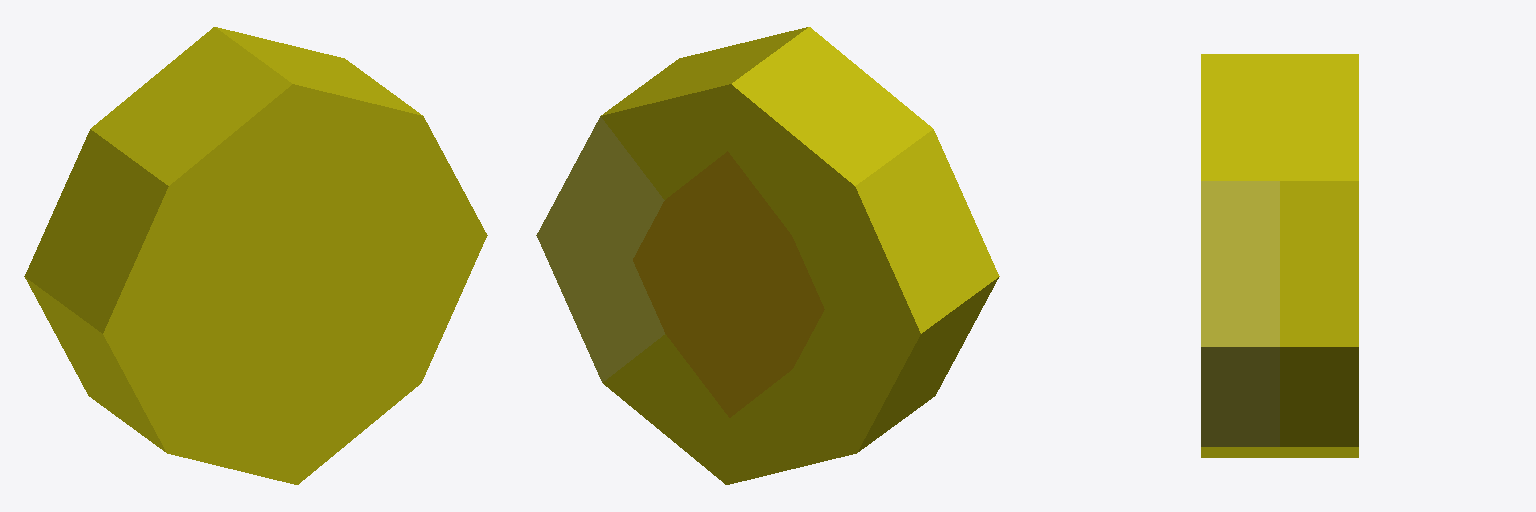
The picture shows the model from 3 angles: view 1: azimuth 30°, elevation 25°; view 2: azimuth 150°, elevation 25°; view 3: azimuth 270°, elevation 25°; orthographic projection.
Parts seen in each view (by area): view 1: cube; view 2: cube; view 3: cube.
Part boxes in pixels (bbox=[...]): cube: bbox=[24, 27, 487, 484]; cube: bbox=[536, 27, 999, 484]; cube: bbox=[1201, 54, 1358, 457].
Bounding box in the file's own units: 0.3535 × 0.3535 × 0.125.
Materials: 1 (1 with a texture image).